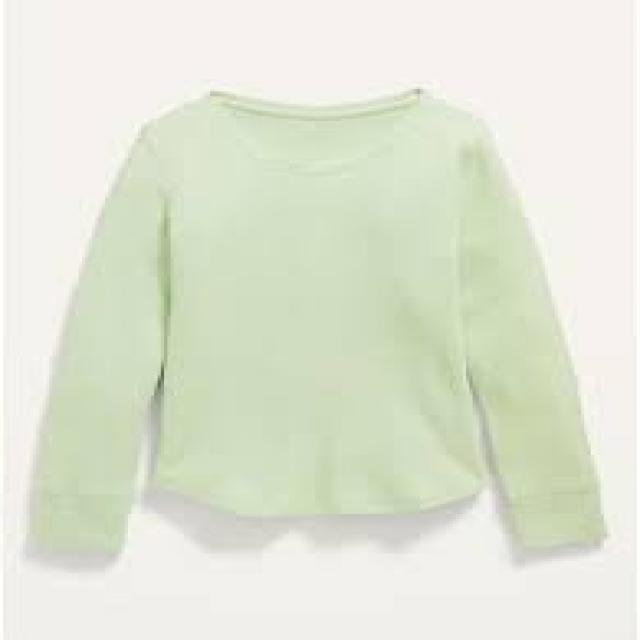plain: (42, 89, 604, 559)
